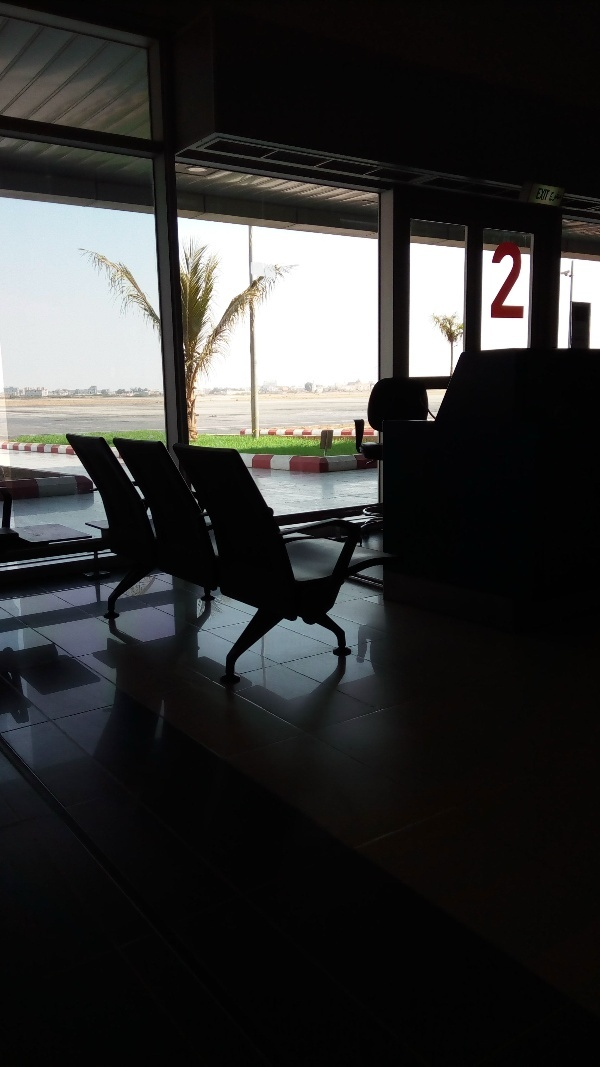text: (497, 239, 512, 320), (513, 239, 527, 320), (492, 239, 496, 320), (552, 190, 560, 203), (545, 188, 552, 202), (538, 188, 544, 202), (561, 190, 563, 203)
